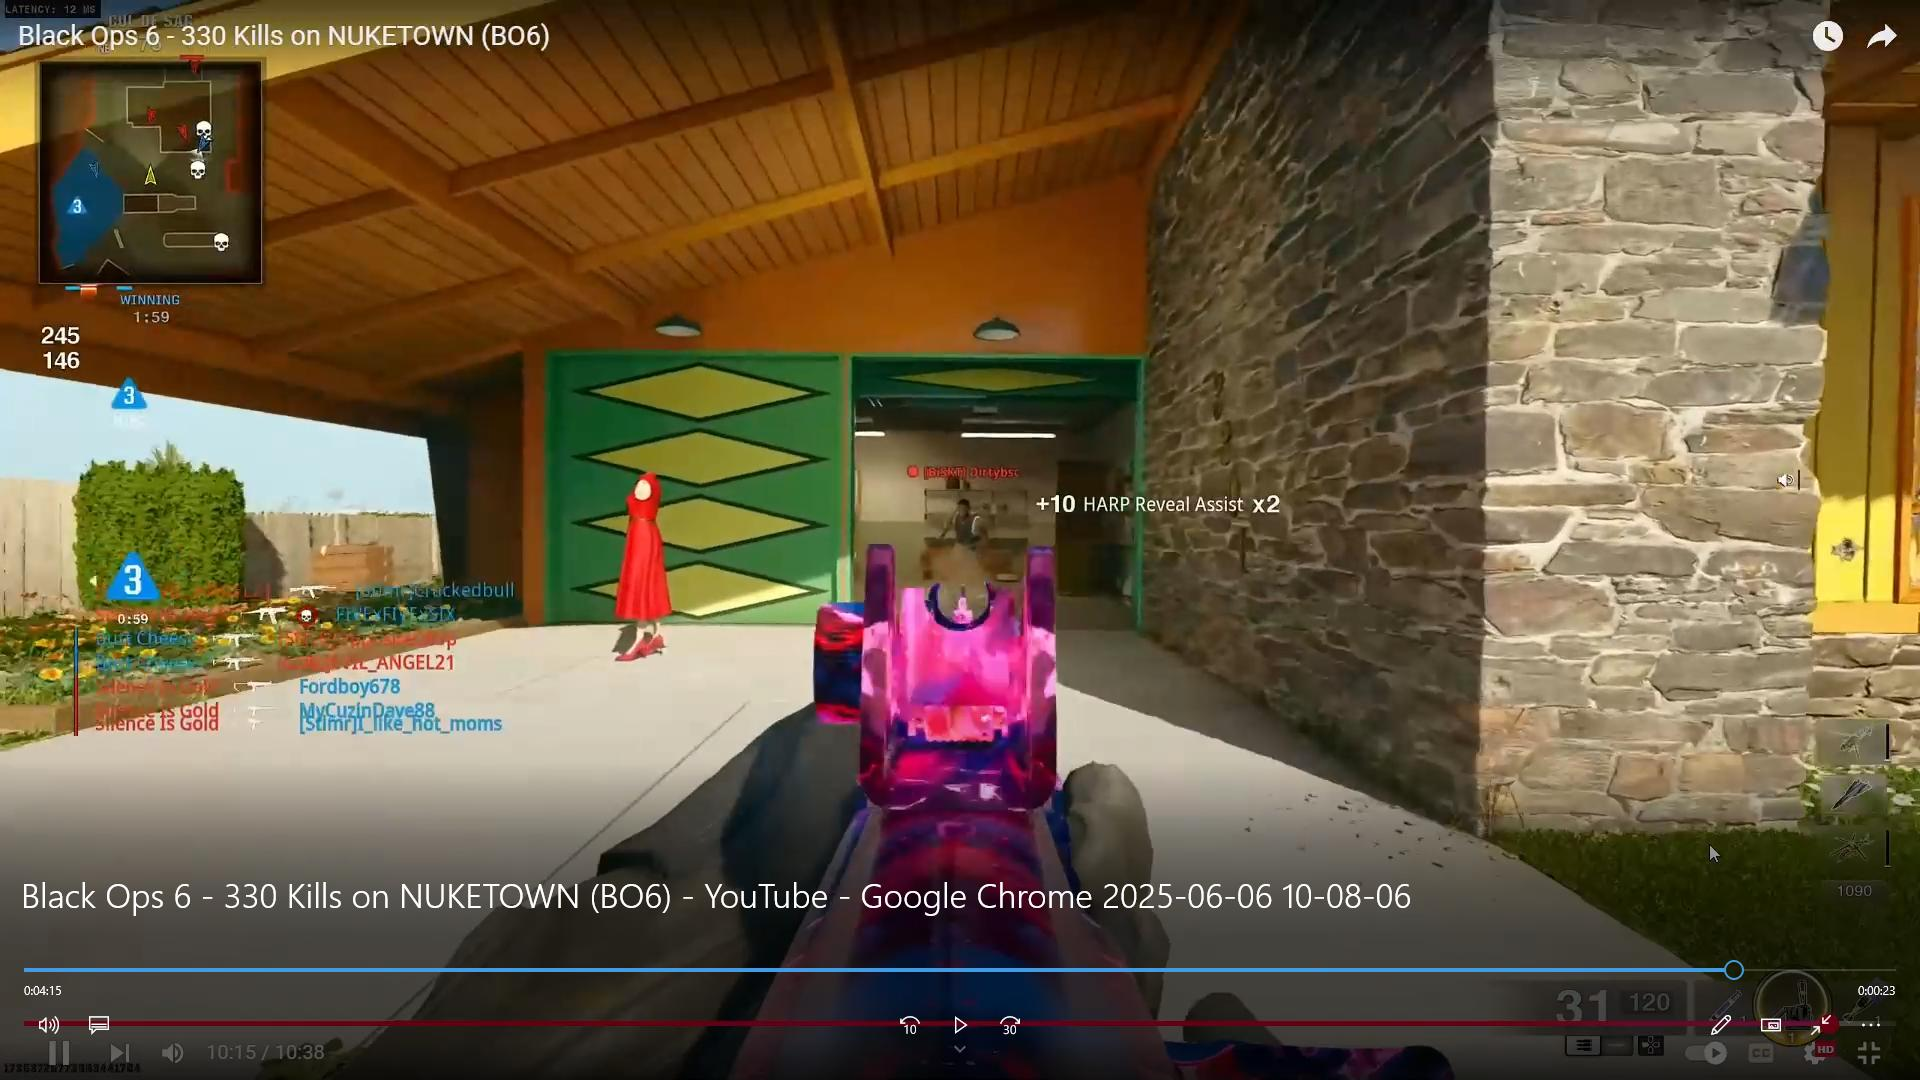Enemy: (947, 491, 986, 546)
